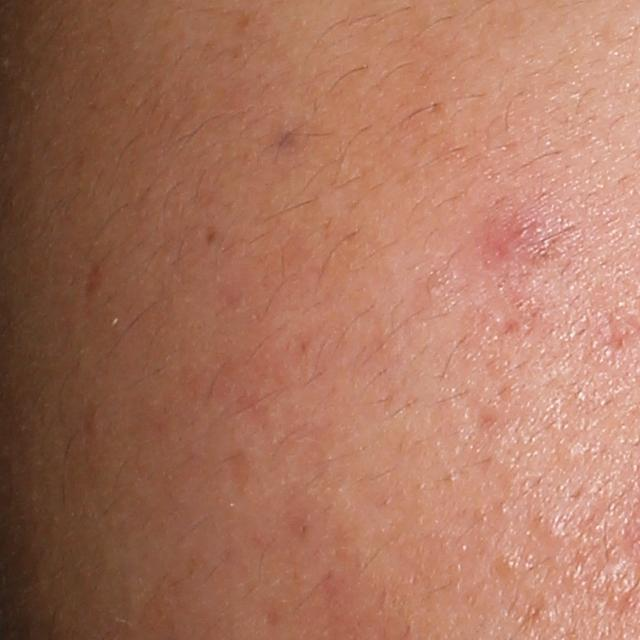comedo: (493, 551, 523, 584)
